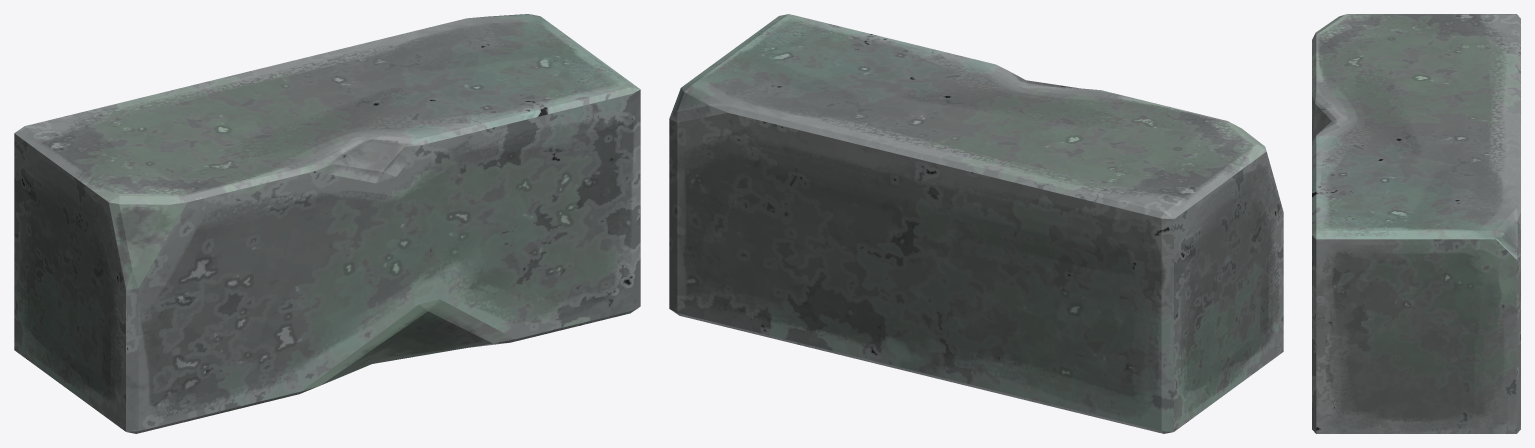
The model's file is roadcube03.fbx.
The picture shows the model from 3 angles, left to right: view 1: azimuth 30°, elevation 25°; view 2: azimuth 150°, elevation 25°; view 3: azimuth 270°, elevation 25°; orthographic projection. The views are drawn at different scales.
Visible parts, largest first — view 1: roadcube03; view 2: roadcube03; view 3: roadcube03.
Part boxes in pixels (left/top/right/bottom): roadcube03: left=14, top=14, right=640, bottom=433; roadcube03: left=669, top=14, right=1283, bottom=433; roadcube03: left=1312, top=14, right=1520, bottom=433.
Bounding box in the file's own units: 388 × 163 × 152.
